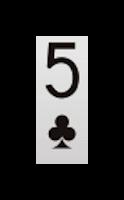5C: (40, 39, 84, 154)
